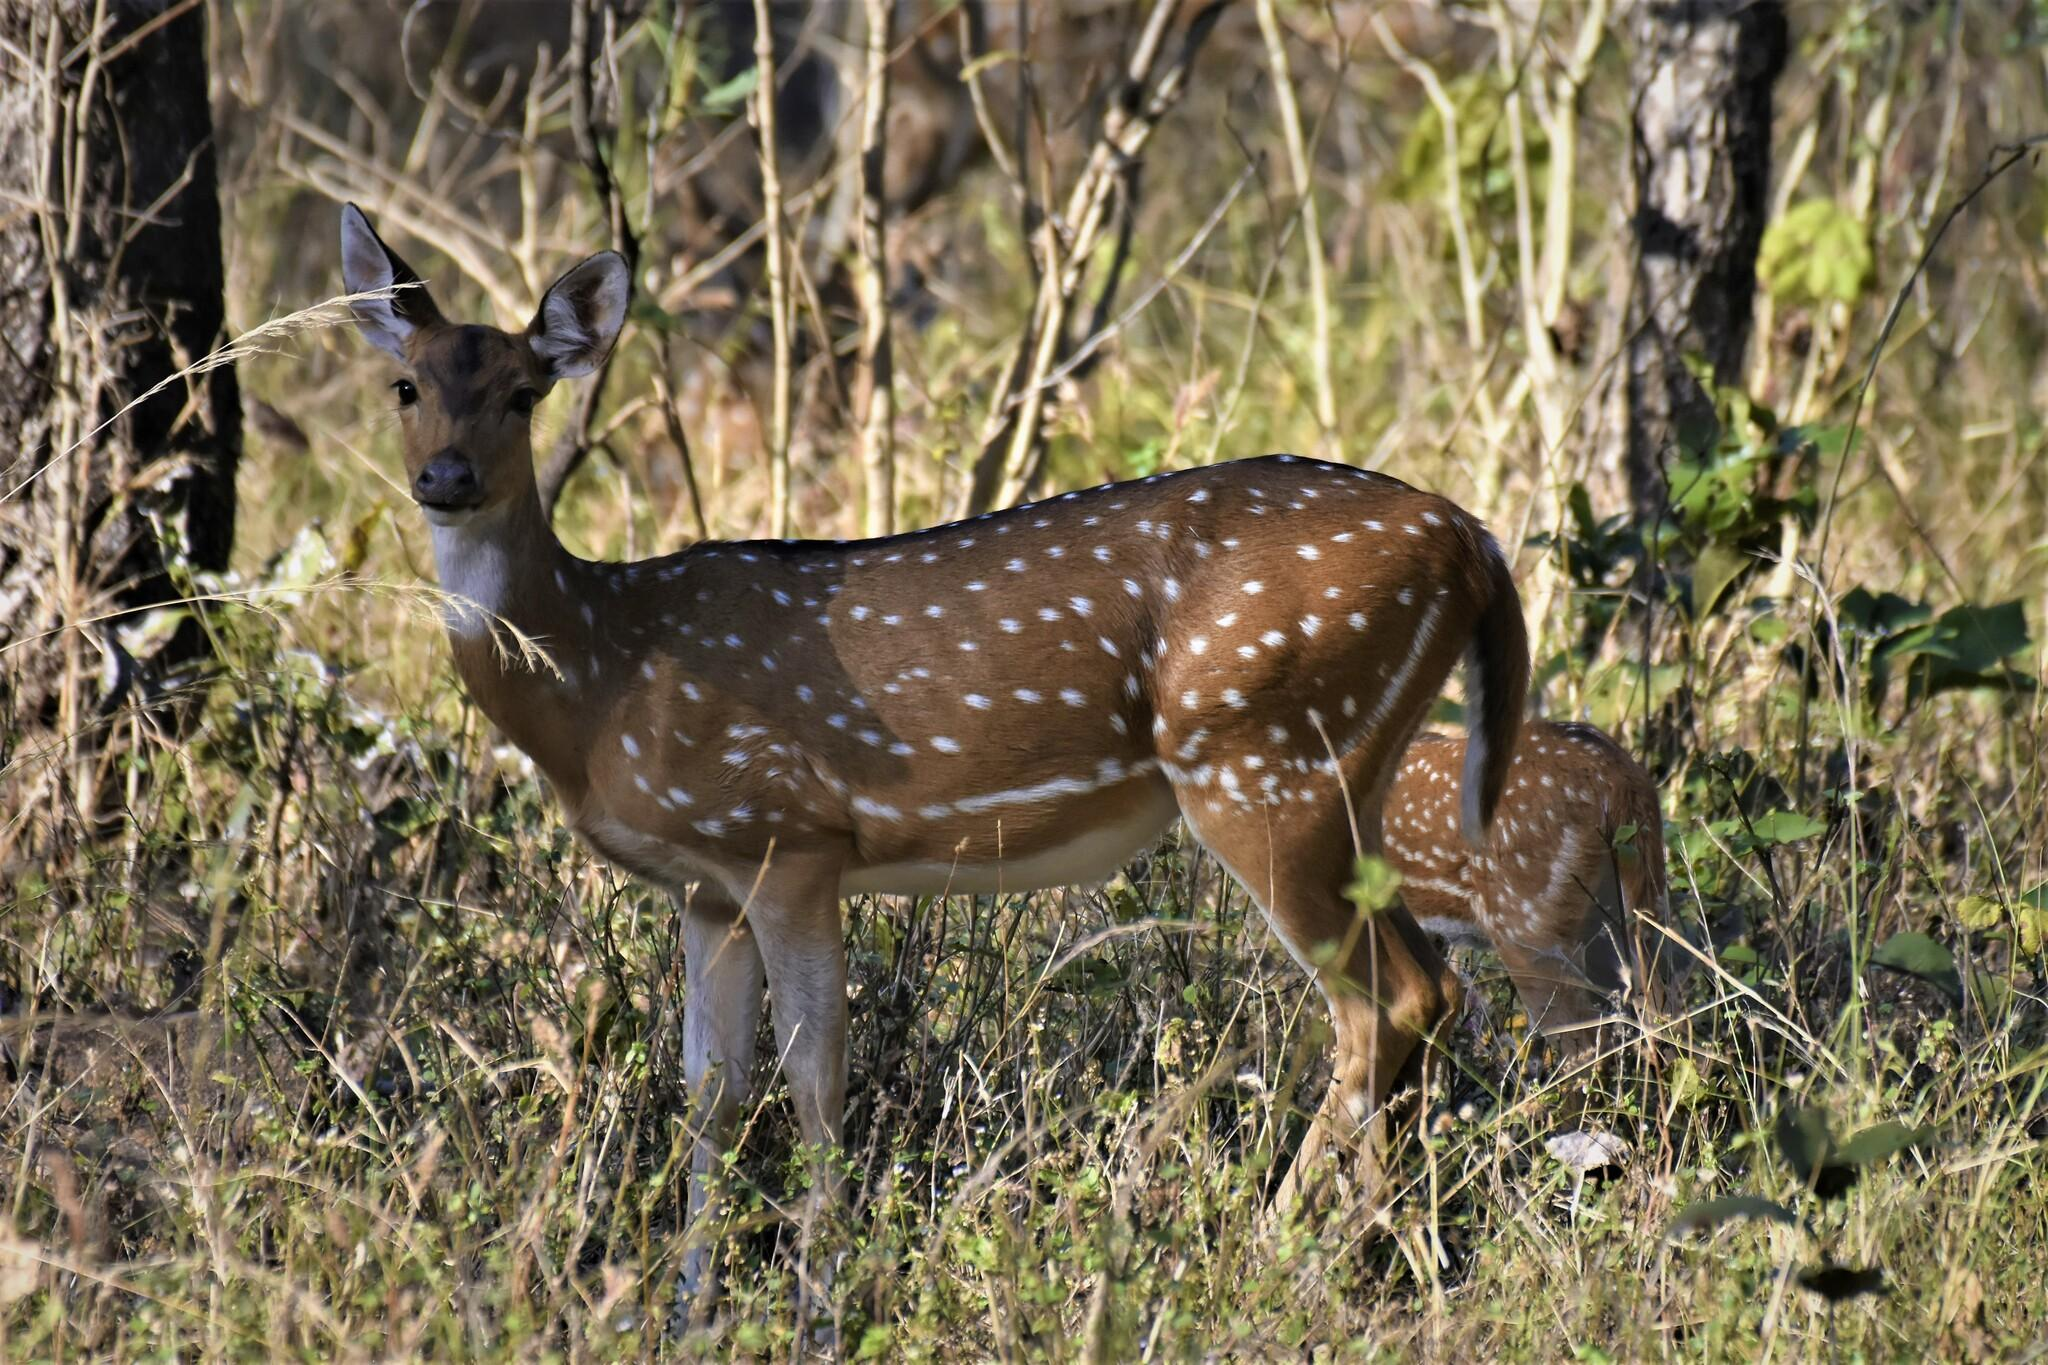Deer: (343, 204, 1529, 1219)
